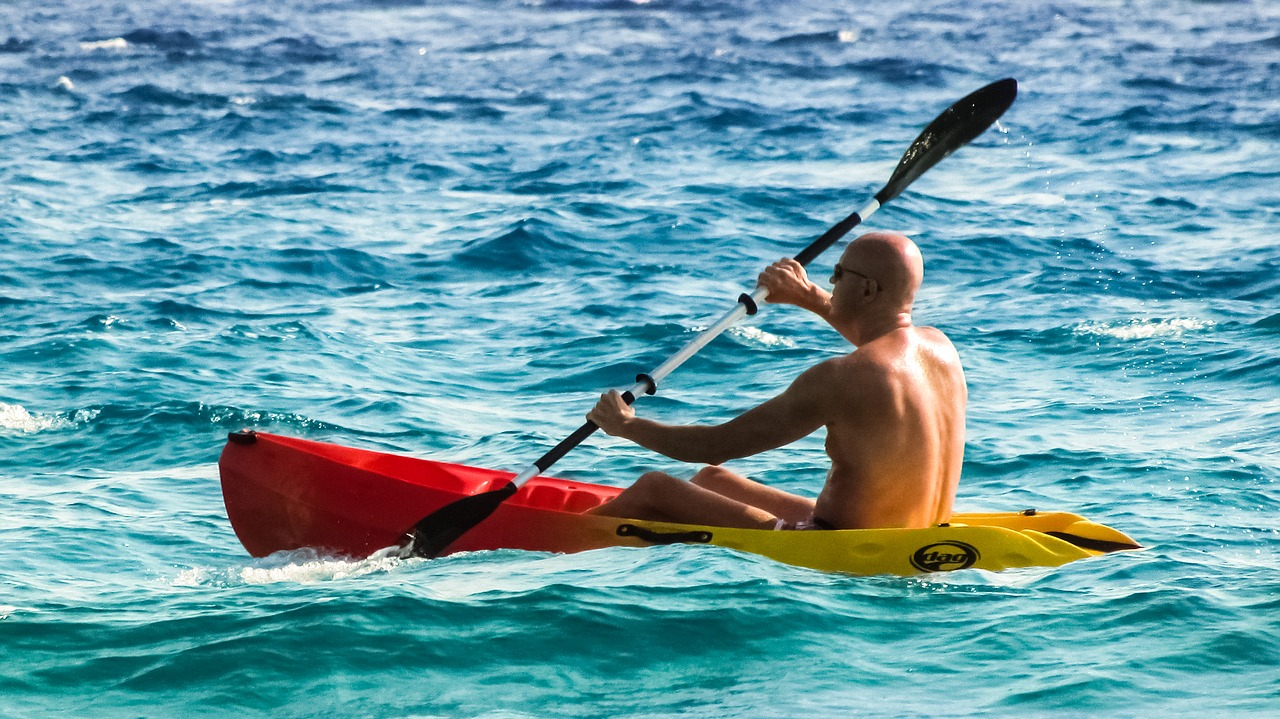kayak: (215, 419, 1141, 573)
